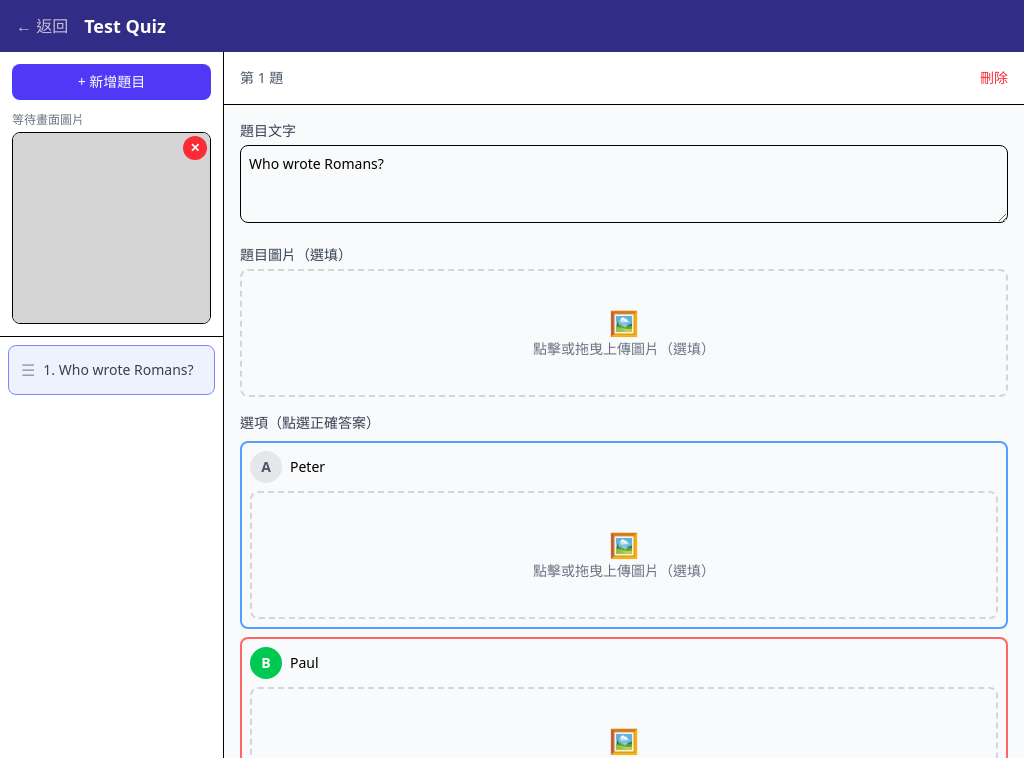
Scenario: DesignPage › removes lobby image and saves via PUT
Expected: the heading "Test Quiz" is shown, [84,14,166,38]
Click the button named "移除圖片".
click(195, 148)  # box [183,136,207,160]
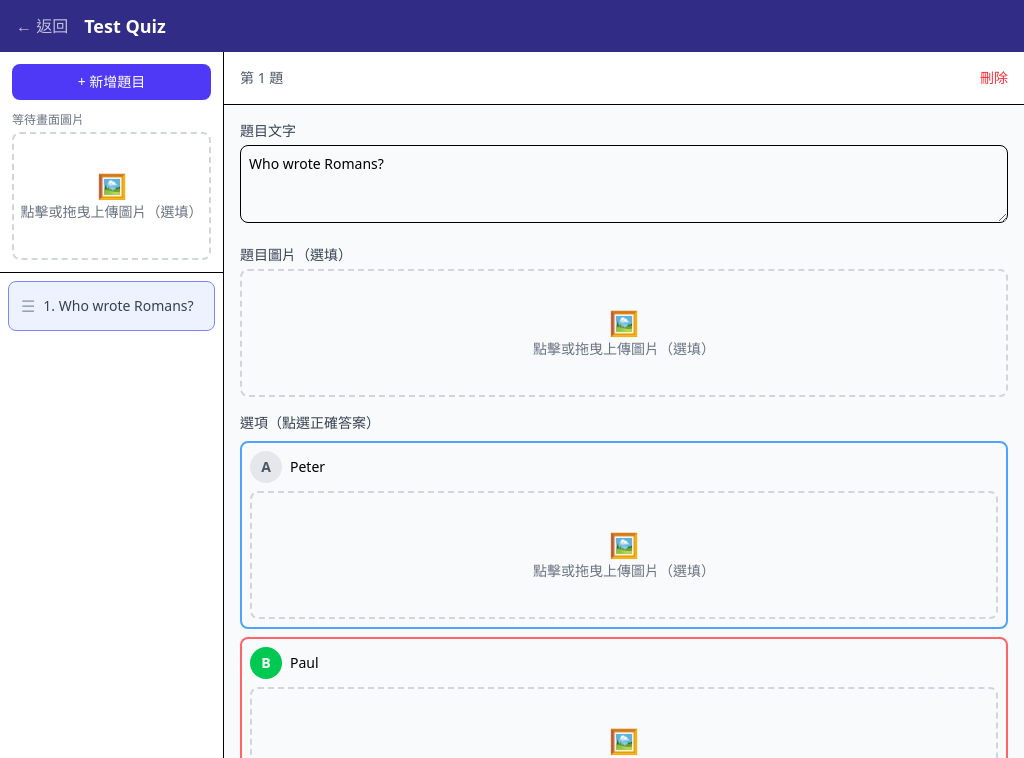
Expected: the picture with alt text "題目圖片" is gone
